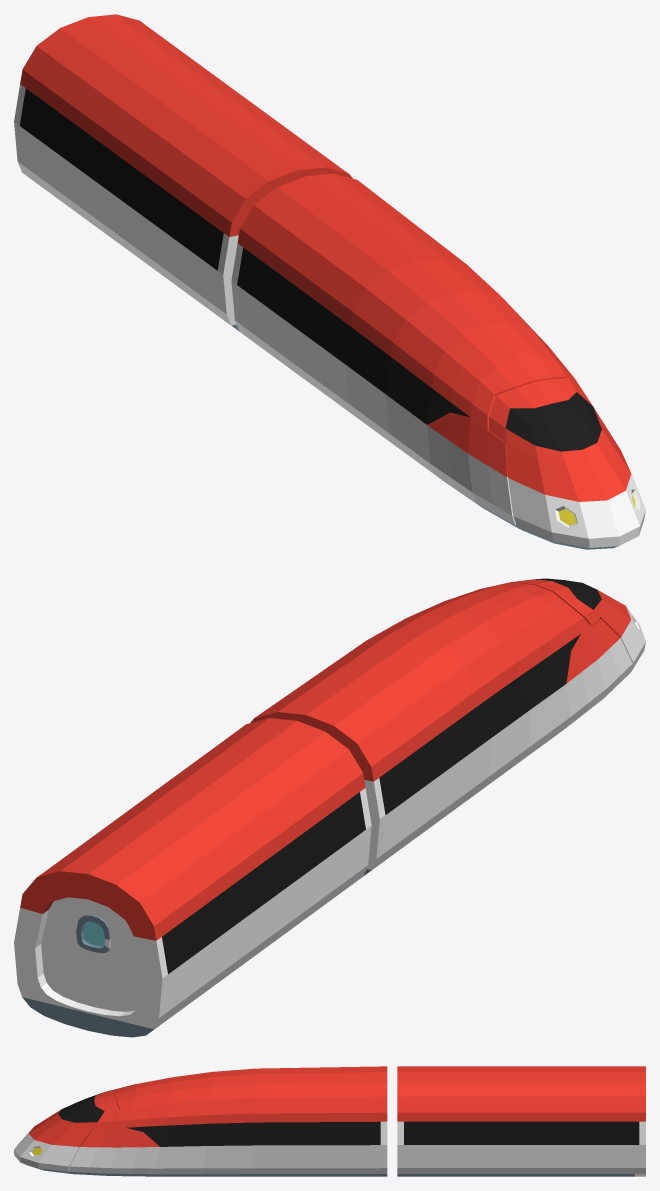
Rendered from scene_Uey52WGhmt.glb.
3 renders of one model, top to bottom at view 1: azimuth 30°, elevation 25°; view 2: azimuth 150°, elevation 25°; view 3: azimuth 270°, elevation 25°, orthographic. The views are drawn at different scales.
Visible parts, largest first — view 1: Cube.024_Cube.027; view 2: Cube.024_Cube.027; view 3: Cube.024_Cube.027.
Part boxes in pixels (bbox=[...]): Cube.024_Cube.027: bbox=[14, 14, 645, 549]; Cube.024_Cube.027: bbox=[14, 578, 645, 1037]; Cube.024_Cube.027: bbox=[14, 1066, 645, 1176].
Size of the model in its own units: 2.78 by 2.81 by 17.26.
